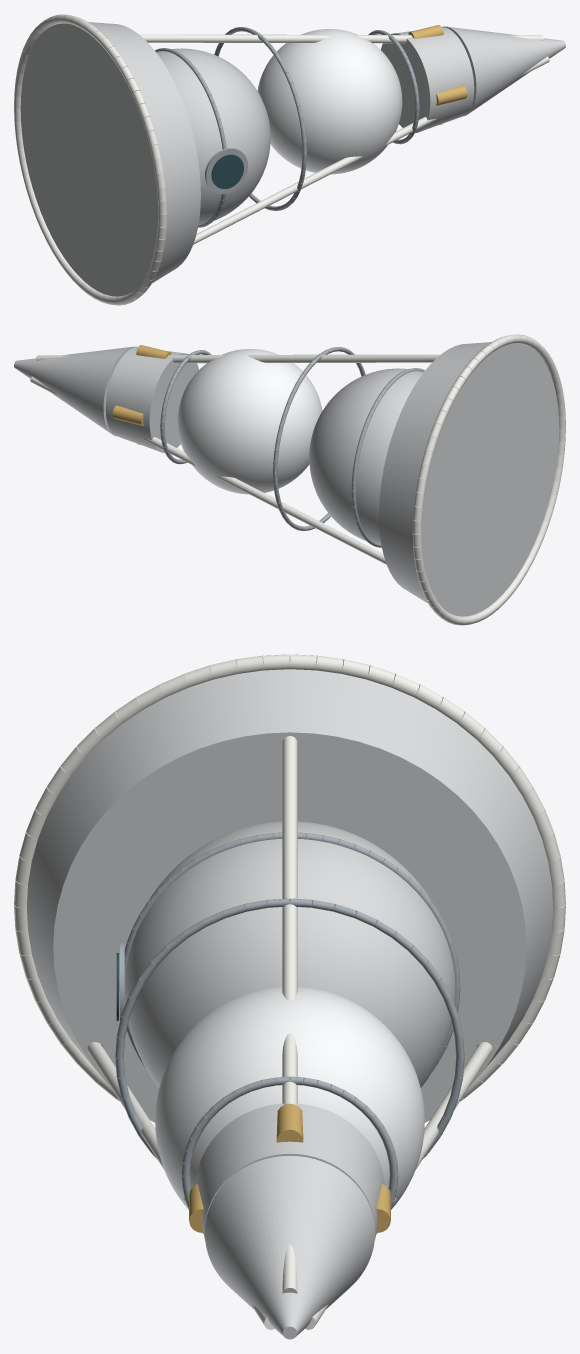
The model's file is sputnik-2-atlas.glb.
3 views of the same model, one above another, from view 1: azimuth 30°, elevation 25°; view 2: azimuth 150°, elevation 25°; view 3: azimuth 270°, elevation 25° (orthographic). The views are drawn at different scales.
Parts seen in each view (by area): view 1: Lower attachment skirt, Radio transmitter pressure sphere, Sealed biological cabin, Upper scientific equipment, UV and X-ray sensor cone, Conical structural rail 1, Conical structural rail 2, Cabin sealed viewport, Biological cabin instrument hatch, Telemetry equipment fitting; view 2: Lower attachment skirt, Radio transmitter pressure sphere, Sealed biological cabin, Upper scientific equipment, UV and X-ray sensor cone, Conical structural rail 1, Conical structural rail 3, Telemetry equipment fitting; view 3: Lower attachment skirt, Sealed biological cabin, Radio transmitter pressure sphere, UV and X-ray sensor cone, Upper scientific equipment, Conical structural rail 1, Conical structural rail 2, Conical structural rail 3, Telemetry equipment fitting.
Boxes of the visible parts, bbox=[...] form: Lower attachment skirt: bbox=[20, 22, 200, 296]; Radio transmitter pressure sphere: bbox=[257, 29, 402, 174]; Sealed biological cabin: bbox=[156, 48, 270, 225]; Upper scientific equipment: bbox=[381, 27, 474, 132]; UV and X-ray sensor cone: bbox=[442, 26, 565, 115]; Conical structural rail 1: bbox=[139, 34, 543, 43]; Conical structural rail 2: bbox=[193, 56, 549, 244]; Cabin sealed viewport: bbox=[211, 154, 243, 188]; Biological cabin instrument hatch: bbox=[205, 148, 248, 193]; Telemetry equipment fitting: bbox=[436, 85, 467, 105]; Lower attachment skirt: bbox=[379, 342, 559, 616]; Radio transmitter pressure sphere: bbox=[177, 349, 322, 494]; Sealed biological cabin: bbox=[309, 368, 423, 545]; Upper scientific equipment: bbox=[105, 347, 198, 452]; UV and X-ray sensor cone: bbox=[14, 346, 137, 435]; Conical structural rail 1: bbox=[36, 354, 440, 363]; Conical structural rail 3: bbox=[30, 376, 386, 564]; Telemetry equipment fitting: bbox=[112, 405, 143, 425]; Lower attachment skirt: bbox=[26, 669, 553, 1122]; Sealed biological cabin: bbox=[124, 821, 455, 1087]; Radio transmitter pressure sphere: bbox=[155, 986, 424, 1209]; UV and X-ray sensor cone: bbox=[204, 1155, 375, 1339]; Upper scientific equipment: bbox=[195, 1103, 384, 1240]; Conical structural rail 1: bbox=[282, 736, 297, 1293]; Conical structural rail 2: bbox=[87, 1042, 274, 1329]; Conical structural rail 3: bbox=[305, 1042, 492, 1329]; Telemetry equipment fitting: bbox=[276, 1103, 303, 1142].
Bounding box in the file's own units: 2.16 × 1.17 × 1.17.
